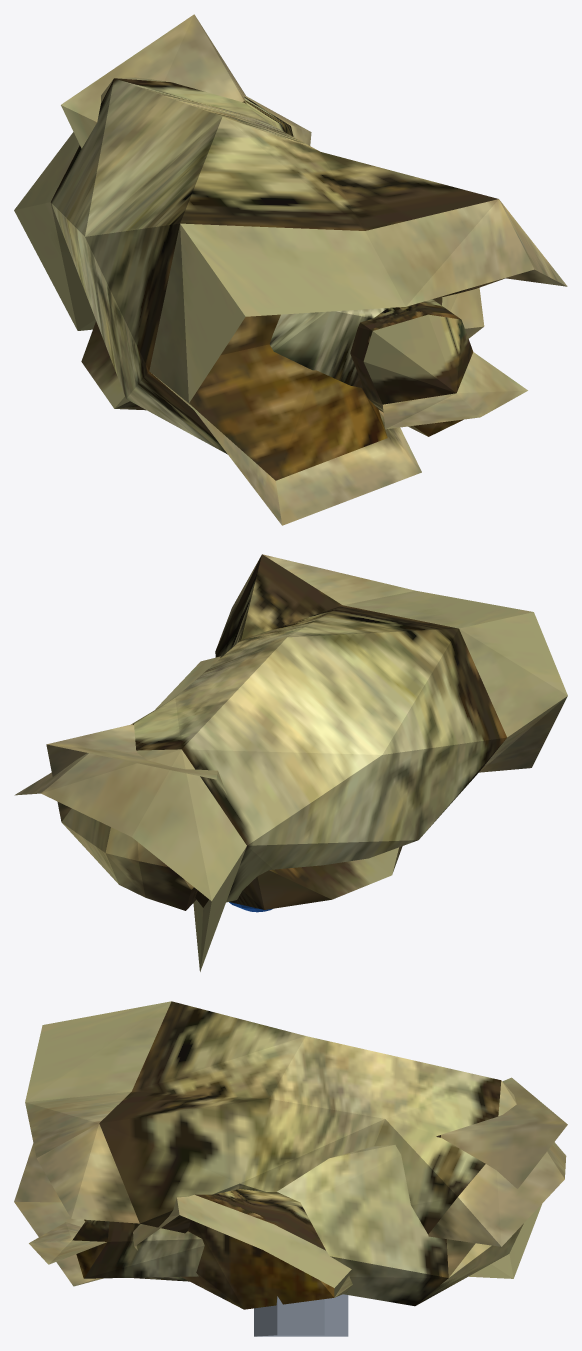
The model's file is Limb Chunks.obj.
3 views of the same model, one above another, from view 1: azimuth 30°, elevation 25°; view 2: azimuth 150°, elevation 25°; view 3: azimuth 270°, elevation 25° (orthographic). The views are drawn at different scales.
Visible parts, largest first — view 1: flood_bit_limb; view 2: flood_bit_limb; view 3: flood_bit_limb, frame_root.
Part boxes in pixels (<box>): flood_bit_limb: <box>14,14,567,525</box>; flood_bit_limb: <box>14,554,567,971</box>; flood_bit_limb: <box>14,1001,567,1309</box>; frame_root: <box>254,1294,348,1336</box>.
Size of the model in its own units: 7.96 by 6.48 by 11.74.
